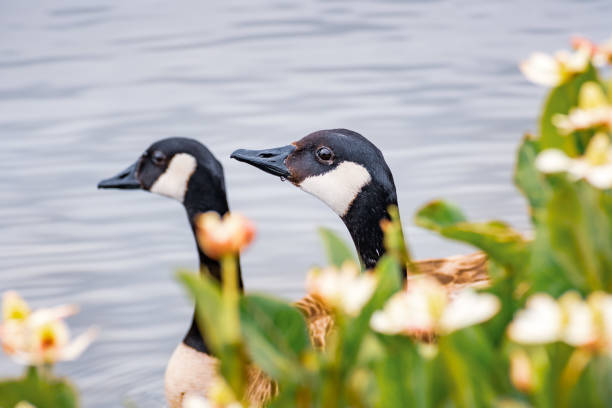goose: (93, 135, 319, 408), (227, 126, 525, 288)
